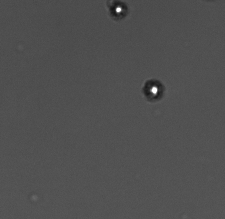Living Cell: (144, 80, 164, 101), (109, 1, 128, 19)
